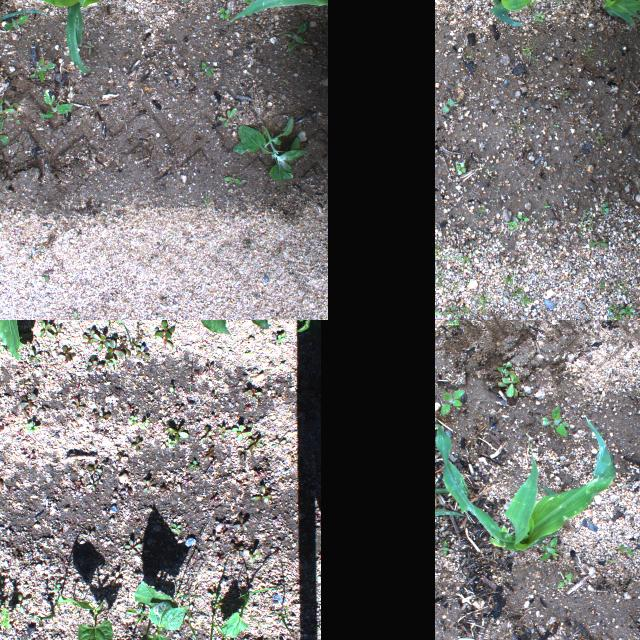crop: (435, 414, 617, 553), (0, 0, 188, 74), (125, 578, 190, 640), (55, 595, 113, 640), (435, 468, 458, 558), (0, 320, 42, 359), (218, 594, 250, 638)
weed: (233, 116, 307, 180), (0, 8, 50, 32), (536, 399, 564, 439), (494, 358, 520, 399), (0, 93, 19, 148), (40, 90, 72, 120), (284, 18, 308, 50), (440, 389, 466, 416), (33, 56, 56, 84), (152, 320, 173, 350), (104, 336, 130, 359), (218, 102, 240, 128), (520, 39, 538, 70), (194, 57, 218, 79), (474, 291, 496, 315), (80, 326, 102, 348), (451, 254, 471, 276), (252, 483, 272, 505), (12, 592, 30, 616), (91, 406, 112, 426), (168, 424, 190, 442), (41, 320, 63, 338), (206, 590, 224, 612), (234, 422, 253, 442), (122, 537, 142, 555), (242, 388, 264, 404), (26, 345, 42, 367), (227, 538, 246, 556), (134, 341, 150, 362), (20, 391, 36, 412), (38, 264, 54, 284), (231, 514, 247, 534), (579, 206, 589, 237), (246, 434, 264, 451), (86, 458, 102, 477), (606, 304, 624, 320), (106, 570, 124, 586), (128, 434, 142, 454), (26, 415, 40, 435), (215, 4, 232, 20), (85, 356, 102, 372), (70, 301, 84, 320), (502, 272, 518, 288), (57, 345, 73, 361), (140, 478, 156, 494), (225, 172, 243, 186), (578, 213, 592, 230), (0, 605, 10, 628), (214, 424, 230, 438), (117, 482, 131, 498), (559, 572, 571, 590), (82, 38, 95, 54), (235, 474, 248, 490), (435, 270, 444, 293), (441, 99, 455, 113), (208, 534, 222, 548), (72, 396, 84, 412), (126, 412, 138, 428), (8, 546, 20, 562), (277, 610, 289, 626), (250, 586, 274, 594), (270, 437, 286, 448), (203, 391, 220, 401), (442, 304, 456, 316), (458, 304, 470, 318), (518, 292, 530, 306), (474, 206, 486, 220), (172, 404, 186, 416), (188, 456, 200, 470), (165, 382, 177, 396), (588, 240, 608, 248), (202, 423, 210, 443), (158, 482, 168, 498), (256, 464, 272, 474), (276, 328, 286, 344), (25, 450, 35, 466), (52, 580, 62, 596), (165, 436, 177, 449), (482, 166, 493, 180), (83, 478, 97, 489), (169, 522, 181, 534), (621, 305, 635, 315), (556, 90, 570, 100), (584, 44, 594, 58), (527, 0, 535, 17), (141, 412, 149, 428), (512, 286, 522, 298), (516, 212, 528, 222), (455, 162, 465, 174), (596, 132, 606, 144), (250, 548, 260, 560), (600, 200, 608, 214), (133, 328, 143, 339), (600, 280, 610, 290), (451, 264, 461, 274), (512, 124, 522, 134), (535, 12, 545, 22), (206, 362, 214, 374), (498, 309, 507, 319), (611, 314, 625, 320), (622, 284, 628, 298), (487, 310, 495, 320), (190, 368, 200, 376), (172, 0, 197, 3), (509, 220, 516, 230), (0, 567, 3, 590), (614, 281, 622, 289), (494, 304, 504, 310), (510, 290, 520, 296), (0, 414, 3, 433), (435, 305, 439, 318), (240, 0, 256, 3), (452, 281, 458, 289), (435, 243, 438, 257), (512, 260, 522, 264), (107, 320, 126, 322), (440, 254, 446, 258), (464, 279, 468, 285), (544, 205, 550, 208), (535, 270, 541, 272), (553, 124, 559, 126), (603, 59, 605, 63)
